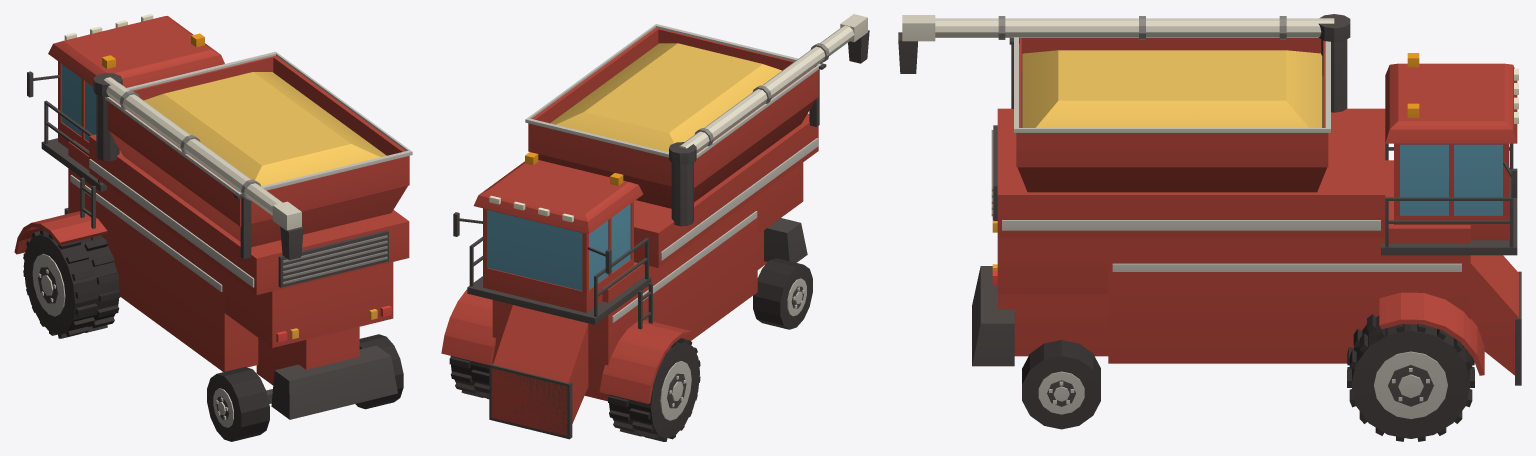
The model's file is combine_basic.glb.
The picture shows the model from 3 angles, left to right: view 1: azimuth 30°, elevation 25°; view 2: azimuth 150°, elevation 25°; view 3: azimuth 270°, elevation 25°; orthographic projection. The views are drawn at different scales.
Parts seen in each view (by area): view 1: combine_basic, grain_fill, spin_front_L, pipe, spin_rear_L, fender_front_L, spin_rear_R; view 2: combine_basic, grain_fill, spin_front_L, pipe, fender_front_L, spin_rear_L, fender_front_R, spin_front_R; view 3: combine_basic, grain_fill, spin_front_R, pipe, spin_rear_R, fender_front_R.
Part boxes in pixels (left/top/right/bottom): combine_basic: left=27, top=14, right=412, bottom=419; grain_fill: left=144, top=72, right=386, bottom=186; spin_front_L: left=23, top=230, right=120, bottom=338; pipe: left=93, top=73, right=303, bottom=260; spin_rear_L: left=207, top=367, right=269, bottom=441; fender_front_L: left=14, top=211, right=107, bottom=254; spin_rear_R: left=355, top=334, right=403, bottom=409; combine_basic: left=453, top=24, right=826, bottom=439; grain_fill: left=550, top=43, right=781, bottom=152; spin_front_L: left=608, top=338, right=700, bottom=441; pipe: left=669, top=14, right=869, bottom=164; fender_front_L: left=599, top=320, right=691, bottom=403; spin_rear_L: left=753, top=258, right=812, bottom=329; fender_front_R: left=441, top=289, right=495, bottom=364; spin_front_R: left=449, top=356, right=492, bottom=399; combine_basic: left=972, top=37, right=1521, bottom=385; grain_fill: left=1022, top=50, right=1322, bottom=127; spin_front_R: left=1347, top=314, right=1474, bottom=441; pipe: left=898, top=14, right=1350, bottom=73; spin_rear_R: left=1022, top=340, right=1100, bottom=429; fender_front_R: left=1379, top=292, right=1484, bottom=375.
Bounding box in the file's own units: 3.4 × 4.16 × 7.32.
3 materials, 3 textured.
